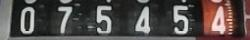digits: (172, 4, 190, 35), (57, 4, 74, 36), (19, 6, 37, 36), (133, 6, 152, 34), (96, 4, 113, 35), (210, 6, 225, 34)
